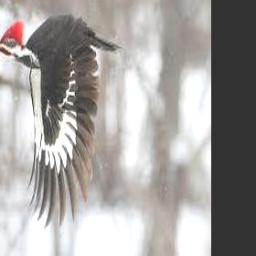Woodpecker: (0, 16, 121, 225)
